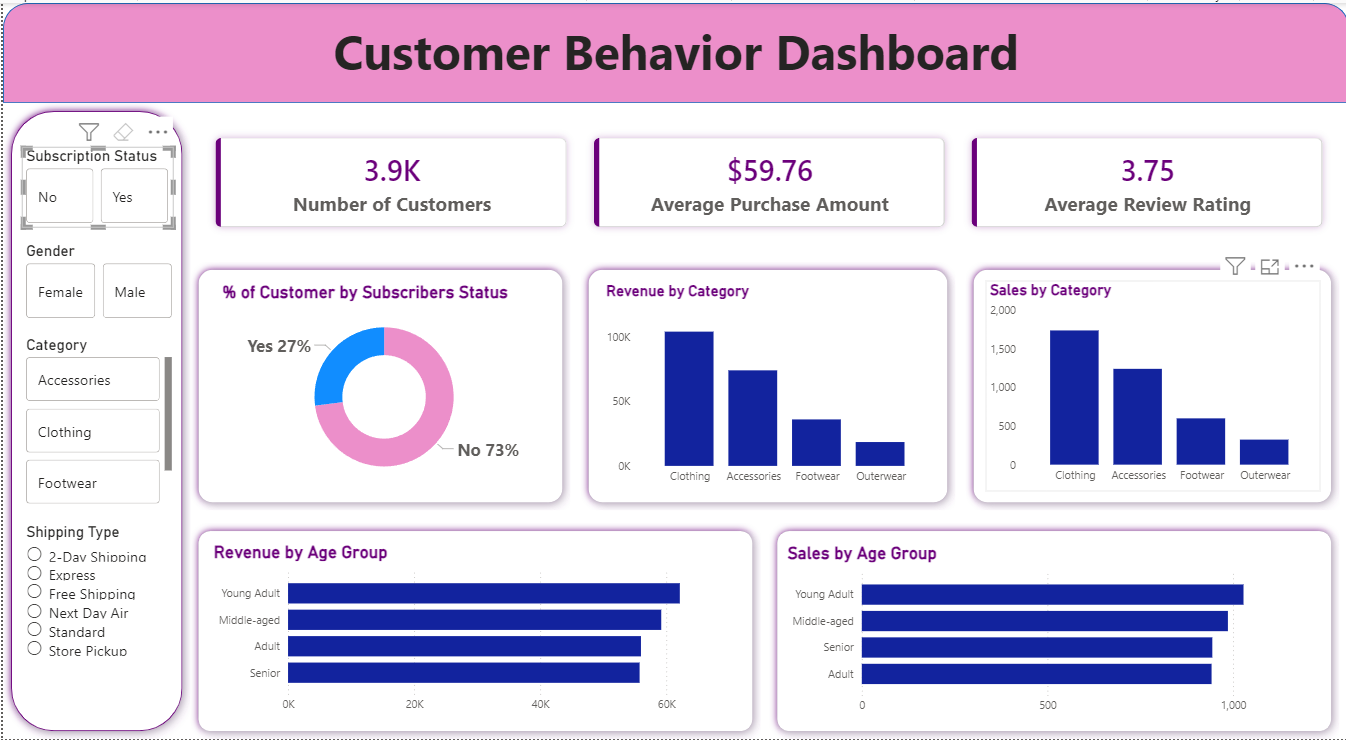

The dashboard page shown, as its layout file describes it:
{"tool":"powerbi","page":{"name":"Page 1","canvas":[1500,820],"ordinal":0},"visuals":[{"type":"cardVisual","fields":{"Data":["mydatabase customer.Number of Customers","mydatabase customer.Average Purchase Amount","mydatabase customer.Average Review Rating"]},"box":[193.6,119.8,1291,156],"z":0},{"type":"shape","box":[0,0,1499.9,111.4],"z":1000},{"type":"textbox","box":[0,12.5,1499.9,87.7],"z":2000},{"type":"shape","box":[208.9,288.3,423.4,277.1],"z":3000},{"type":"donutChart","title":"% of Customer by Subscribers Status","fields":{"Category":["mydatabase customer.subscription_status"],"Y":["CountNonNull(mydatabase customer.customer_id)"]},"box":[239.5,310.6,370.5,235.4],"z":4000},{"type":"shape","box":[643.4,288.3,417.8,277.1],"z":5000},{"type":"shape","box":[1072.4,288.3,416.4,277.1],"z":6000},{"type":"treemap","title":"Revenue by Category","fields":{"Group":["mydatabase customer.category"],"Values":["Sum(mydatabase customer.purchase_amount)"]},"box":[667.1,310.6,373.2,235.4],"z":7000},{"type":"lineChart","title":"Sales by Category ","fields":{"Y":["CountNonNull(mydatabase customer.customer_id)"],"Category":["mydatabase customer.category"]},"box":[1094.6,309.2,373.2,235.4],"z":8000},{"type":"shape","box":[0,111.4,208.9,708.9],"z":9000},{"type":"advancedSlicerVisual","fields":{"Values":["mydatabase customer.subscription_status"]},"box":[20.9,146.2,169.9,101.7],"z":10000},{"type":"advancedSlicerVisual","fields":{"Values":["mydatabase customer.gender"]},"box":[20.9,263.2,172.7,90.5],"z":11000},{"type":"advancedSlicerVisual","fields":{"Values":["mydatabase customer.category"]},"box":[20.9,370.5,172.7,195],"z":12000},{"type":"listSlicer","fields":{"Values":["mydatabase customer.shipping_type"]},"box":[20.9,579.4,162.9,208.9],"z":13000},{"type":"shape","box":[208.9,579.4,635.1,240.9],"z":14000},{"type":"clusteredBarChart","title":"Revenue by Age Group","fields":{"Category":["mydatabase customer.age_group"],"Y":["Sum(mydatabase customer.purchase_amount)"]},"box":[229.8,600.2,594.7,199.2],"z":15000},{"type":"shape","box":[853.7,579.4,635.1,240.9],"z":16000},{"type":"clusteredBarChart","title":"Sales by Age Group","fields":{"Category":["mydatabase customer.age_group"],"Y":["CountNonNull(mydatabase customer.customer_id)"]},"box":[869,601.6,604.4,199.2],"z":17000},{"type":"image","box":[183.8,12.5,213.1,86.3],"z":18000},{"type":"image","box":[655.9,146.2,57.1,46],"z":19000},{"type":"image","box":[1083.5,146.2,55.7,47.4],"z":20000},{"type":"image","box":[229.8,146.2,68.2,48.7],"z":21000}]}

Visuals, with their boxes in screenshot pixels (x1, y1, x2, y2), scaled from the page's 1500x820 canvas onto the 1346x740 screenshot:
cardVisual - mydatabase customer.Number of Customers x mydatabase customer.Average Purchase Amount: l=174, t=108, r=1332, b=249
shape: l=0, t=0, r=1345, b=101
textbox: l=0, t=11, r=1345, b=90
shape: l=187, t=260, r=567, b=510
"% of Customer by Subscribers Status" donutChart: l=215, t=280, r=547, b=493
shape: l=577, t=260, r=952, b=510
shape: l=962, t=260, r=1336, b=510
"Revenue by Category" treemap: l=599, t=280, r=933, b=493
"Sales by Category " lineChart: l=982, t=279, r=1317, b=491
shape: l=0, t=101, r=187, b=739
advancedSlicerVisual - mydatabase customer.subscription_status: l=19, t=132, r=171, b=224
advancedSlicerVisual - mydatabase customer.gender: l=19, t=238, r=174, b=319
advancedSlicerVisual - mydatabase customer.category: l=19, t=334, r=174, b=510
listSlicer - mydatabase customer.shipping_type: l=19, t=523, r=165, b=711
shape: l=187, t=523, r=757, b=739
"Revenue by Age Group" clusteredBarChart: l=206, t=542, r=740, b=721
shape: l=766, t=523, r=1336, b=739
"Sales by Age Group" clusteredBarChart: l=780, t=543, r=1322, b=723
image: l=165, t=11, r=356, b=89
image: l=589, t=132, r=640, b=173
image: l=972, t=132, r=1022, b=175
image: l=206, t=132, r=267, b=176
